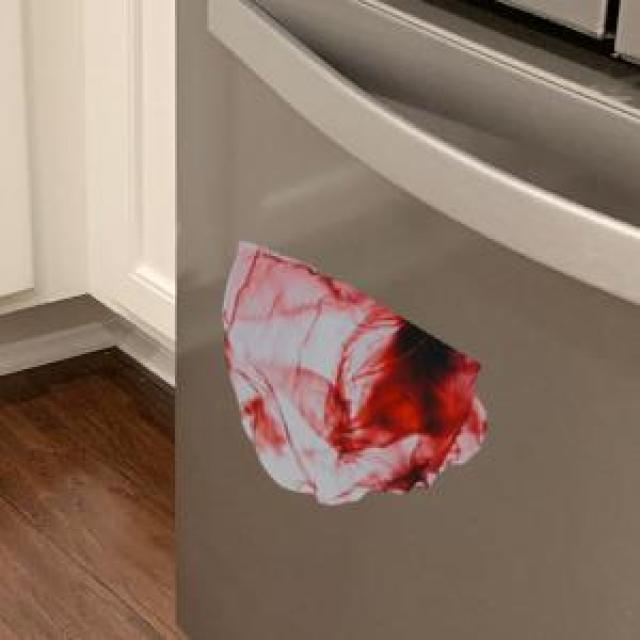waste: (222, 241, 486, 504)
